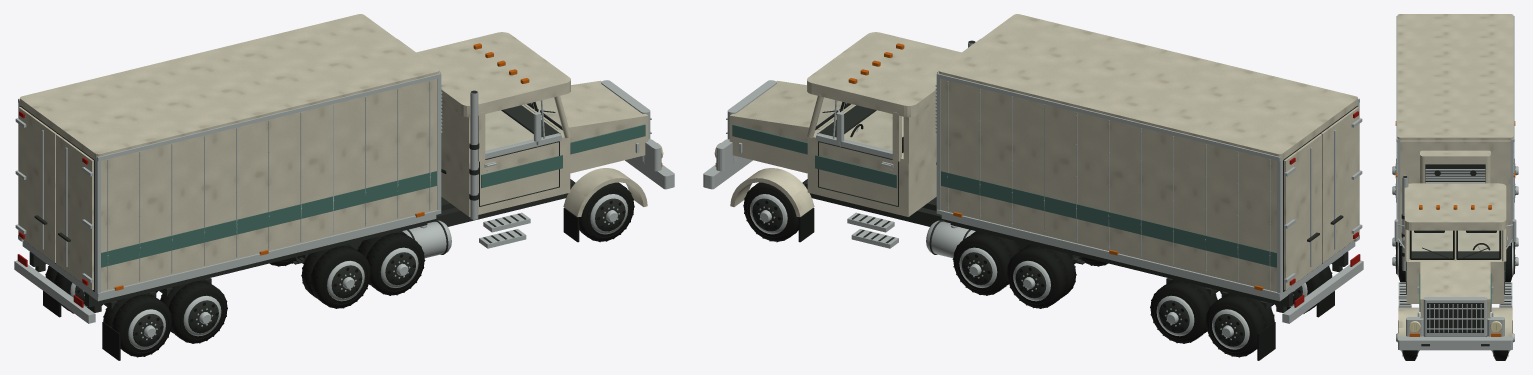
File: SM_Mesa_Truck.fbx
The picture shows the model from 3 angles, left to right: view 1: azimuth 30°, elevation 25°; view 2: azimuth 150°, elevation 25°; view 3: azimuth 270°, elevation 25°; orthographic projection. The views are drawn at different scales.
Parts seen in each view (by area): view 1: SM_Mesa_Truck; view 2: SM_Mesa_Truck; view 3: SM_Mesa_Truck.
Part boxes in pixels (box(x1,y1,x2,y2)): SM_Mesa_Truck: box(14, 14, 674, 360); SM_Mesa_Truck: box(703, 14, 1363, 360); SM_Mesa_Truck: box(1392, 14, 1518, 360).
Size of the model in its own units: 10.93 by 2.77 by 3.85.
